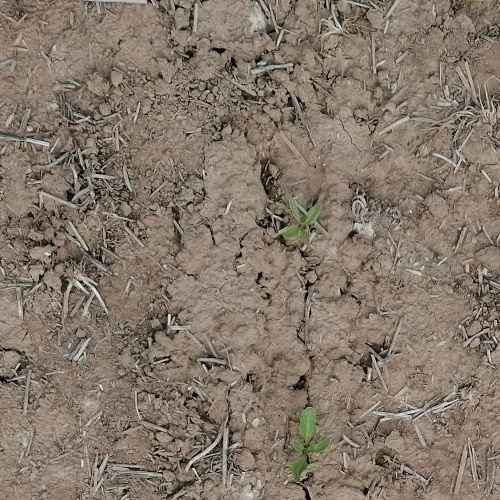beet: (289, 406, 328, 483), (282, 198, 321, 245)
